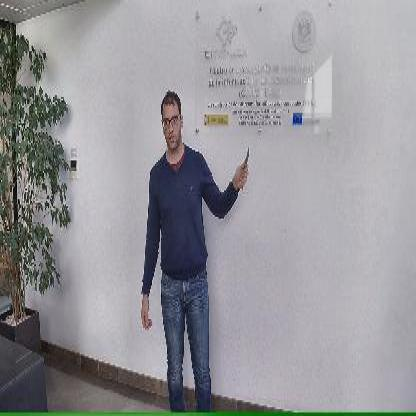knife: (238, 140, 250, 191)
